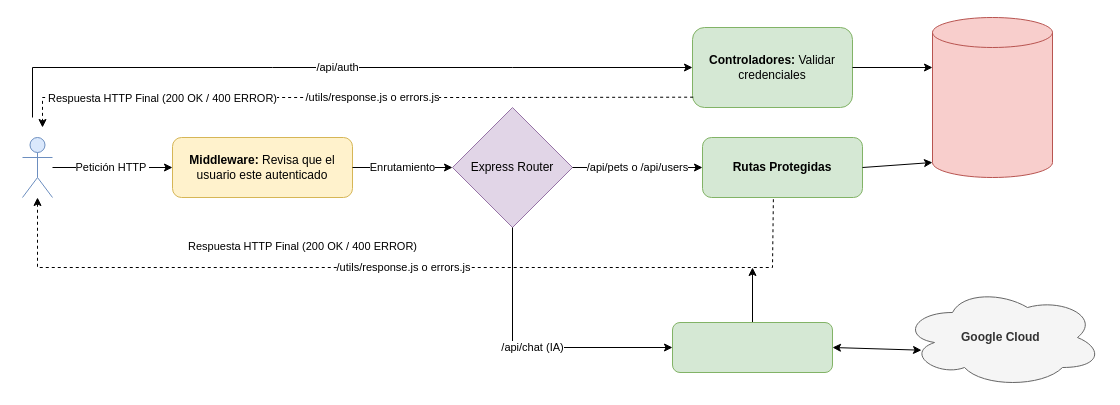
This 1120x405 diagram has some shape labels left out. The shapes that lost their labels are listed below. From the top down, each one's box as (x1, y1, x2, y2) in pixels, then its label:
(932, 16, 1052, 178): 5. Capa de Base de Datos / db.js (Conexión MySQL2 / Promesas)
(22, 136, 52, 198): Cliente
(672, 322, 832, 372): Módulo de Chat IA
